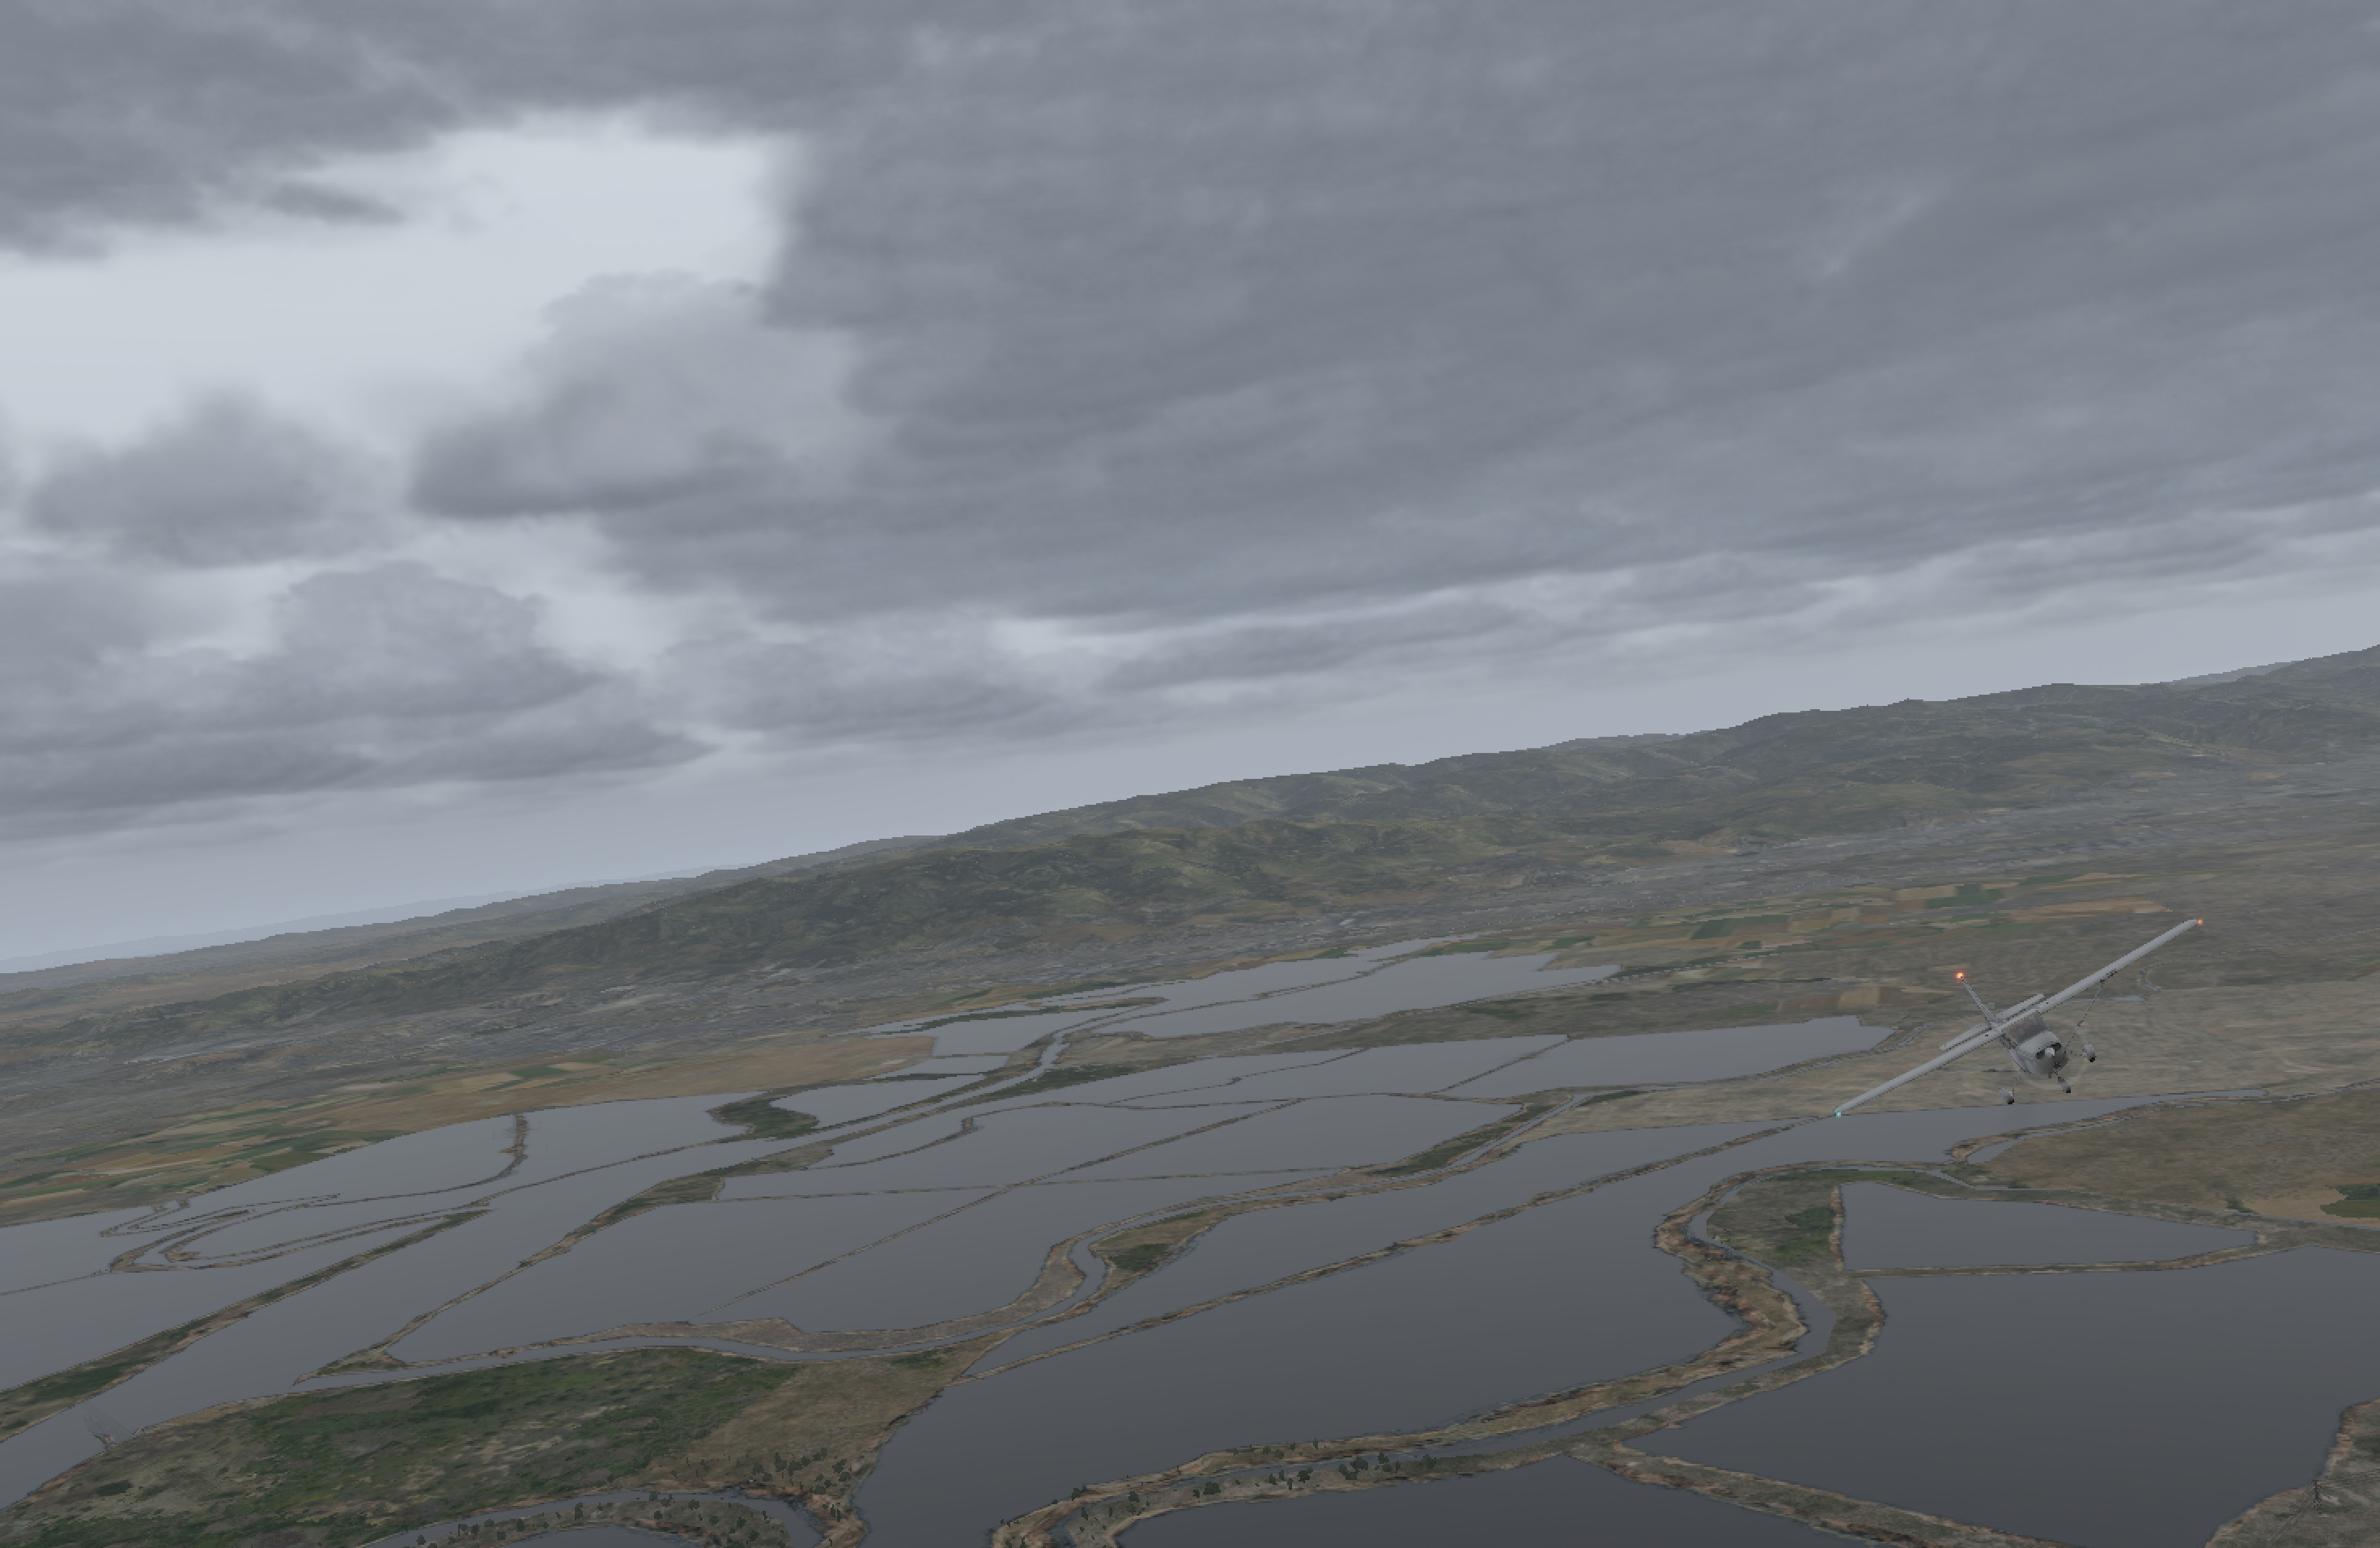aircraft: (1896, 991, 2161, 1090)
